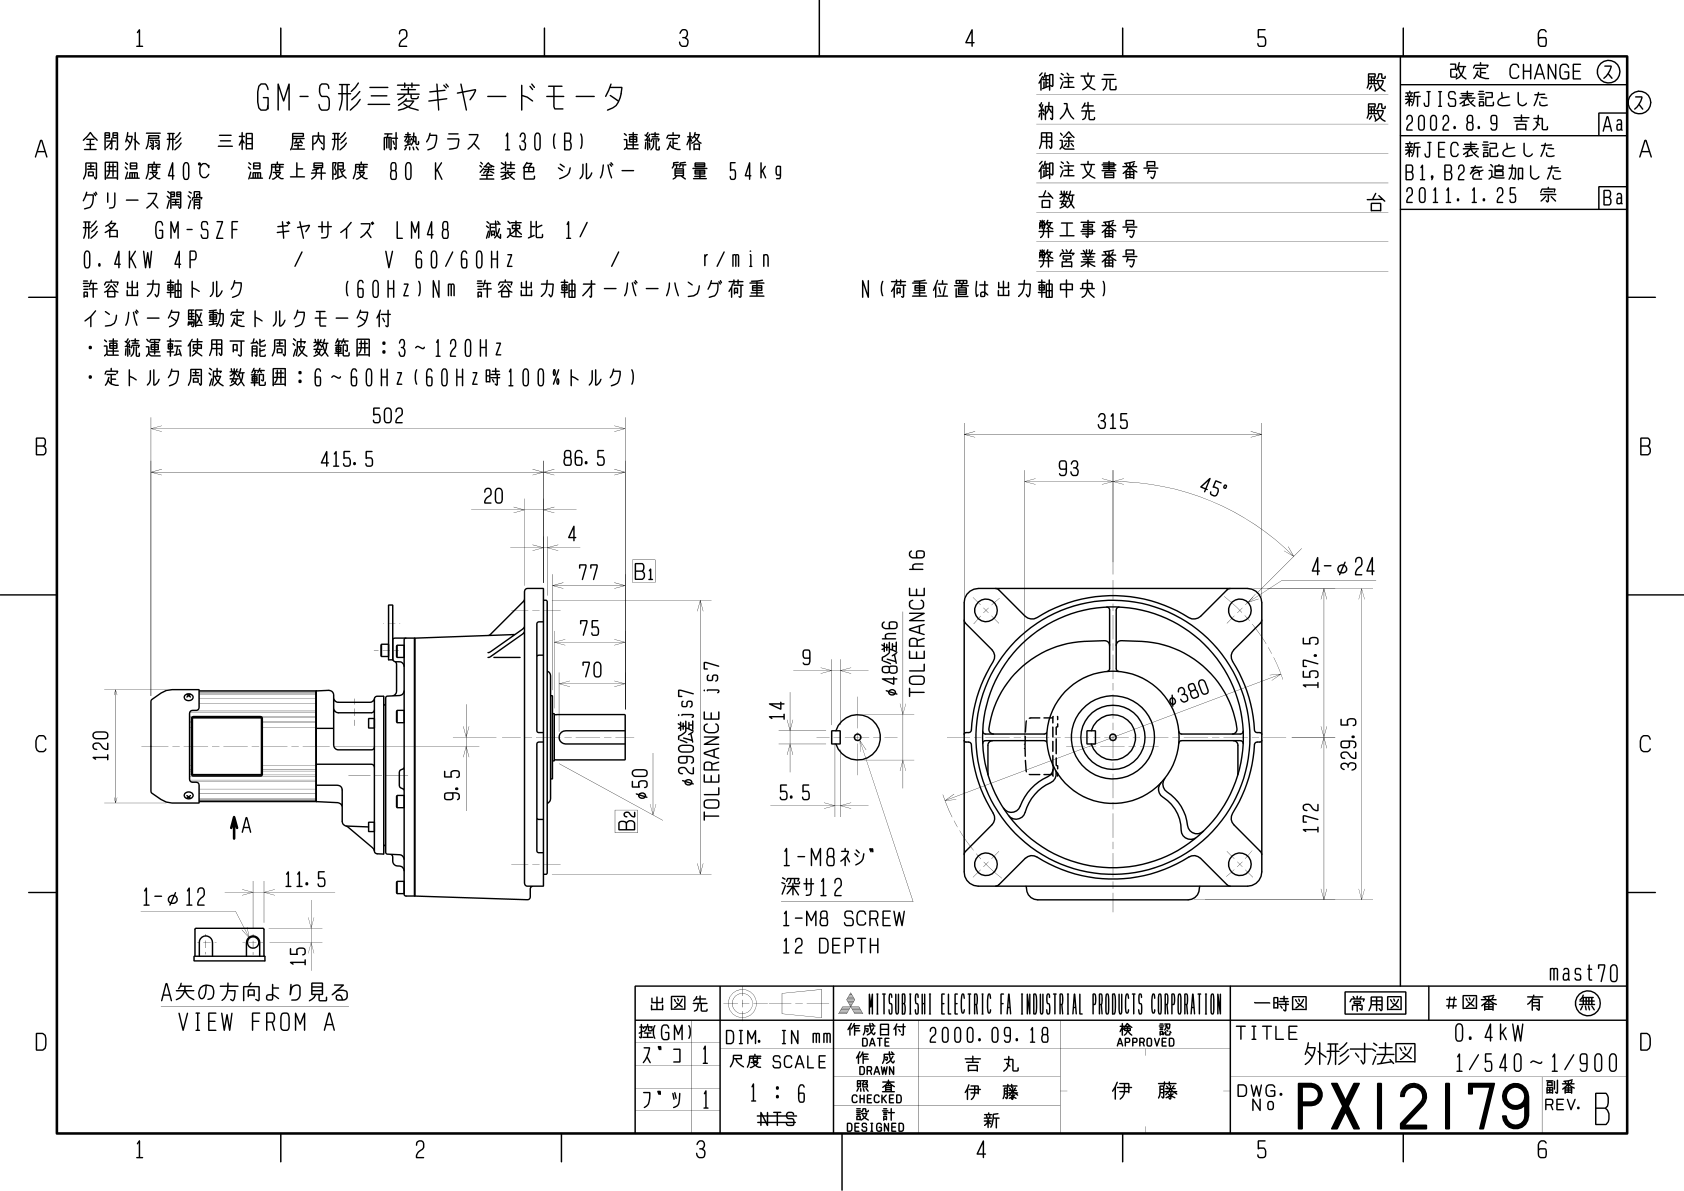GM_S_インバタ屋内＿三相_フランジ: (1, 3, 1674, 1186)
